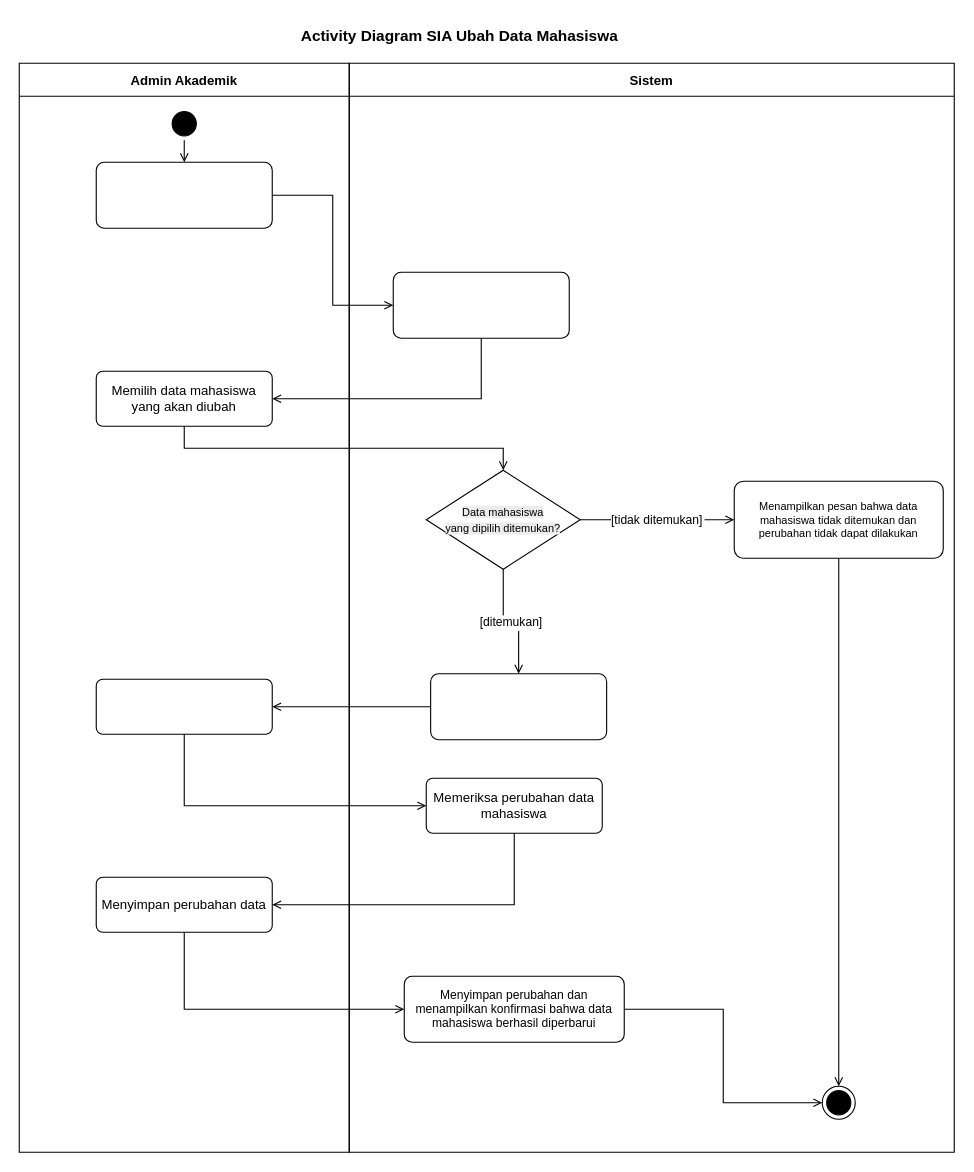
The diagram is 974 pixels wide and 1172 high, and some of its shapes have lost their labels. The shapes that lost their labels are listed below. From the top down, each one's centre as x and y in pixels, then its label:
At (x=183, y=194): "Memilih Ubah Data Mahasiswa pada fungsi Kelola Data Mahasiswa".
At (x=480, y=304): "Menjalankan proses umum pengelolaan data mahasiswa (lihat SIA-UC10)".
At (x=183, y=706): "Mengubah informasi mahasiswa".
At (x=518, y=706): "Menampilkan formulir berisi data mahasiswa yang dipilih".
